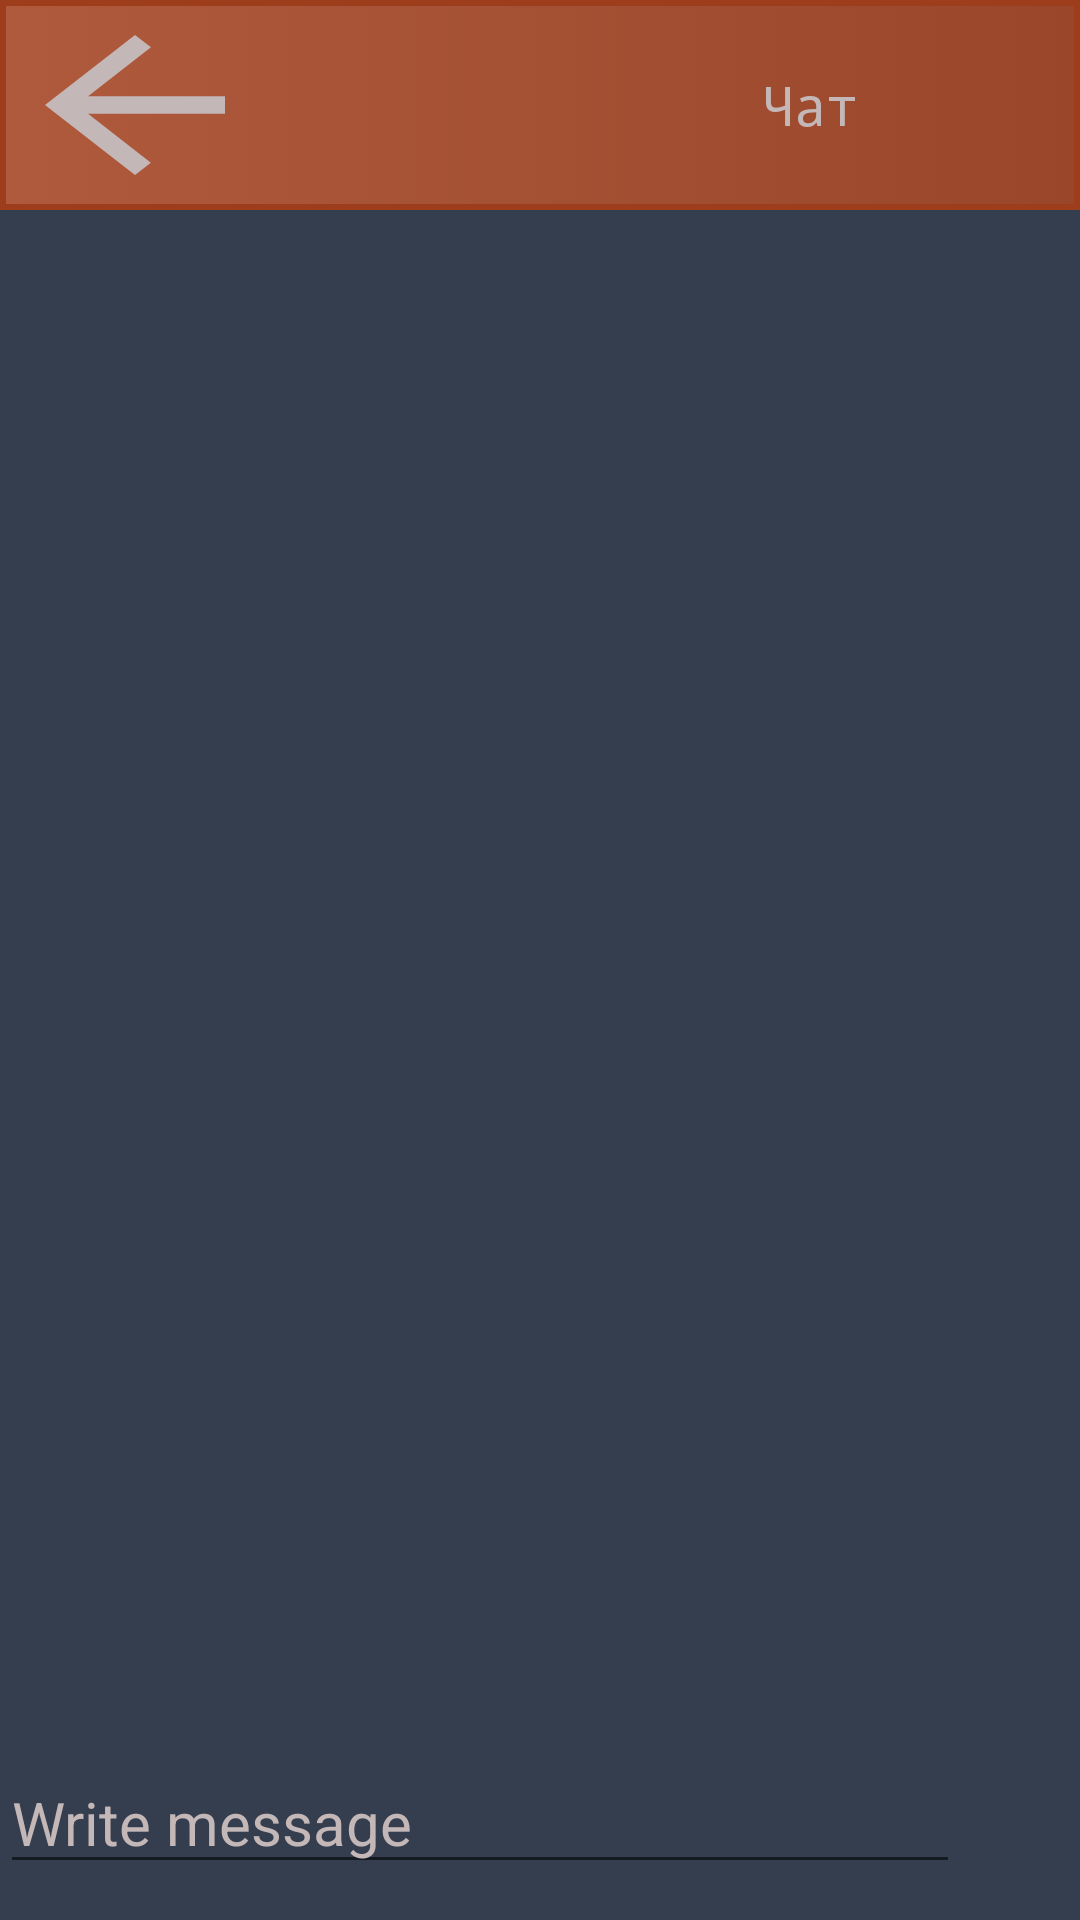

Icon click points for this 1080 × 1920 phone screenshot, format (x,y):
arrow back: (135,105)
